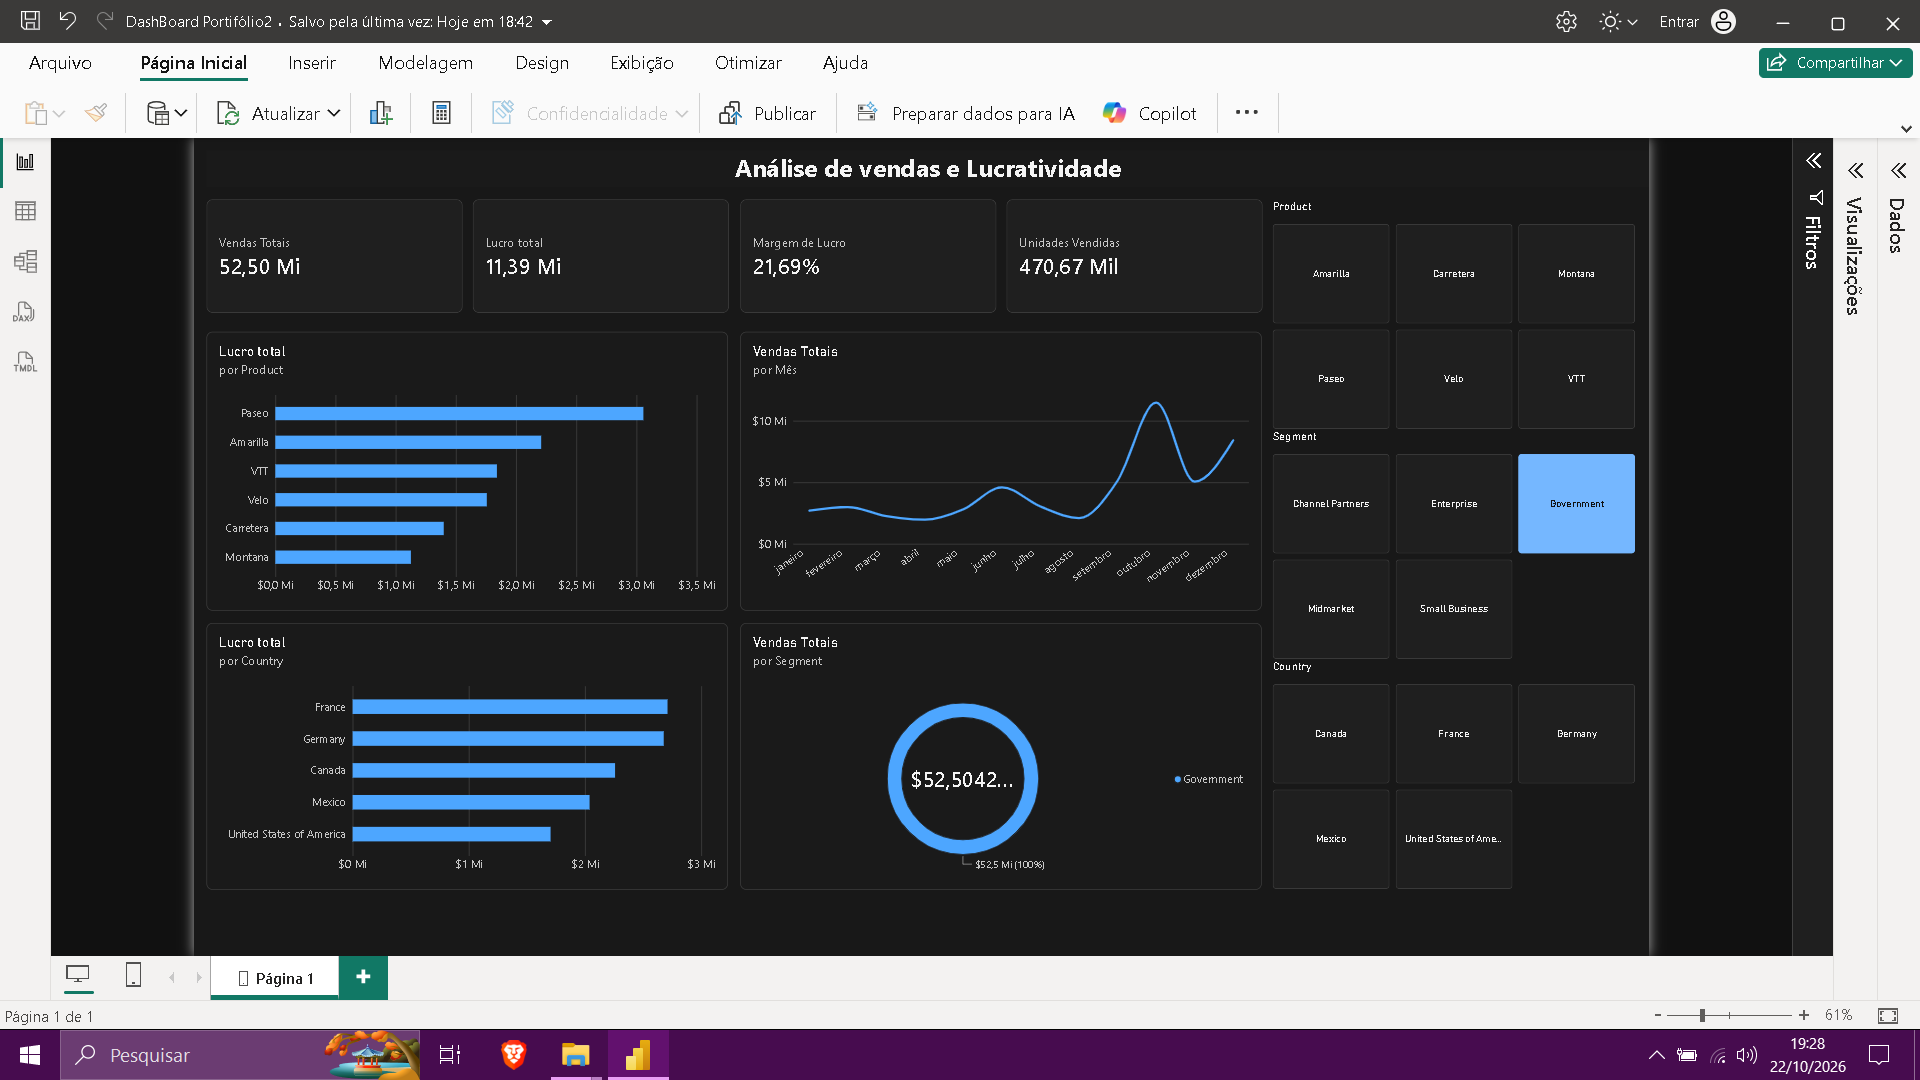

The page's visual inventory and layout, read from the dashboard file:
{"tool":"powerbi","page":{"name":"Página 1","canvas":[1920,1080],"ordinal":0},"visuals":[{"type":"textbox","box":[16,16,1904,48],"z":0},{"type":"cardVisual","fields":{"Data":["financials.Vendas Totais"]},"box":[16,80,338.5,150.3],"z":1000},{"type":"cardVisual","fields":{"Data":["financials.Lucro total"]},"box":[368,80,338.5,150.3],"z":2000},{"type":"cardVisual","fields":{"Data":["financials.Margem de Lucro"]},"box":[720,80,338.5,150.3],"z":3000},{"type":"cardVisual","fields":{"Data":["financials.Unidades Vendidas"]},"box":[1072,80,338.5,150.3],"z":4000},{"type":"lineChart","fields":{"Category":["financials.Date.Variação.Hierarquia de datas.Ano","financials.Date.Variação.Hierarquia de datas.Trimestre","financials.Date.Variação.Hierarquia de datas.Mês","financials.Date.Variação.Hierarquia de datas.Dia"],"Y":["financials.Vendas Totais"]},"box":[720,256,688,368],"z":5000},{"type":"clusteredBarChart","fields":{"Category":["financials.Product"],"Y":["financials.Lucro total"]},"box":[16,256,688,368],"z":6000},{"type":"donutChart","fields":{"Category":["financials.Segment"],"Y":["financials.Vendas Totais"]},"box":[720,640,688,352],"z":7000},{"type":"clusteredBarChart","fields":{"Category":["financials.Country"],"Y":["financials.Lucro total"]},"box":[16,640,688,352],"z":8000},{"type":"advancedSlicerVisual","fields":{"Values":["financials.Country"]},"box":[1424,688,480,304],"z":9000},{"type":"advancedSlicerVisual","fields":{"Values":["financials.Segment"]},"box":[1424,384,480,304],"z":10000},{"type":"advancedSlicerVisual","fields":{"Values":["financials.Product"]},"box":[1424,80,480,304],"z":11000}]}

Visuals, with their boxes on the page's 1920x1080 design canvas (x1, y1, x2, y2). These are canvas units, not pixel positions in the 1920x1080 screenshot, which may show the page scaled, cropped or inside an application window:
textbox: bbox(16, 16, 1920, 64)
cardVisual - financials.Vendas Totais: bbox(16, 80, 354, 230)
cardVisual - financials.Lucro total: bbox(368, 80, 706, 230)
cardVisual - financials.Margem de Lucro: bbox(720, 80, 1058, 230)
cardVisual - financials.Unidades Vendidas: bbox(1072, 80, 1410, 230)
lineChart - financials.Date.Variação.Hierarquia de datas.Ano x financials.Date.Variação.Hierarquia de datas.Trimestre: bbox(720, 256, 1408, 624)
clusteredBarChart - financials.Product x financials.Lucro total: bbox(16, 256, 704, 624)
donutChart - financials.Segment x financials.Vendas Totais: bbox(720, 640, 1408, 992)
clusteredBarChart - financials.Country x financials.Lucro total: bbox(16, 640, 704, 992)
advancedSlicerVisual - financials.Country: bbox(1424, 688, 1904, 992)
advancedSlicerVisual - financials.Segment: bbox(1424, 384, 1904, 688)
advancedSlicerVisual - financials.Product: bbox(1424, 80, 1904, 384)
